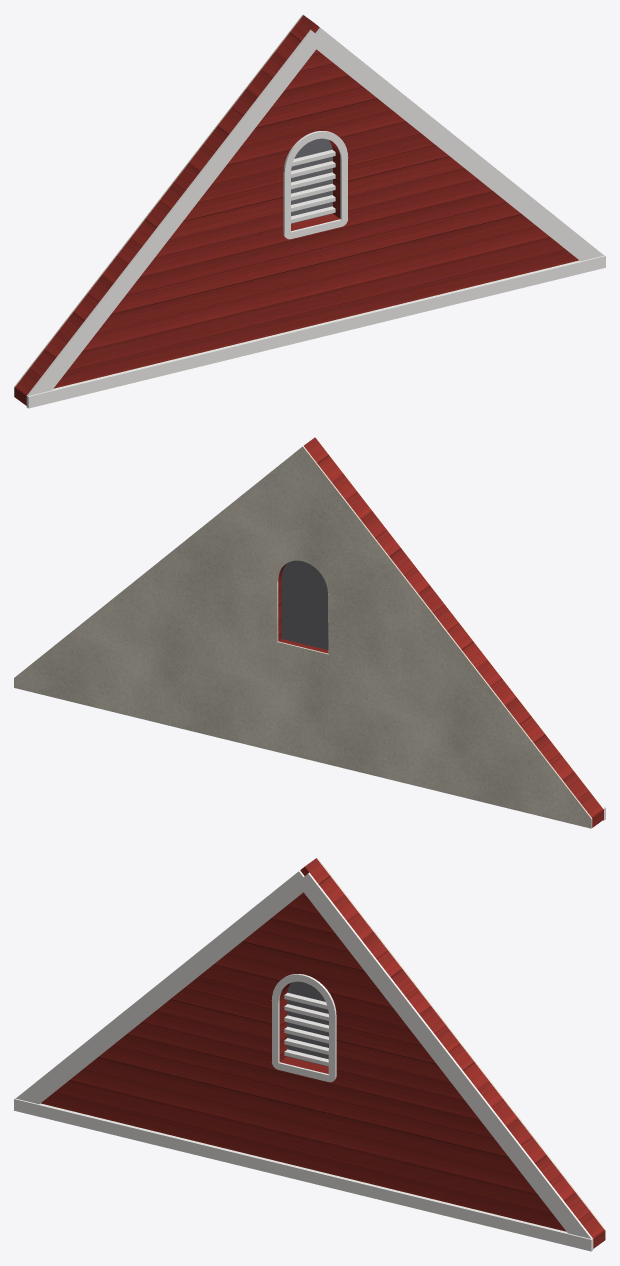
The model's file is gable_front.glb.
3 renders of one model, top to bottom at view 1: azimuth 30°, elevation 25°; view 2: azimuth 150°, elevation 25°; view 3: azimuth 330°, elevation 25°, orthographic.
Parts seen in each view (by area): view 1: gable_front_siding, gable_front_trim, gable_front_louvre, gable_front_dark, gable_front_plaster; view 2: gable_front_plaster, gable_front_siding, gable_front_dark, gable_front_trim; view 3: gable_front_siding, gable_front_trim, gable_front_louvre, gable_front_dark, gable_front_plaster.
Boxes of the visible parts, x1=… form: gable_front_siding: x1=15, y1=15, x2=579, y2=405; gable_front_trim: x1=26, y1=27, x2=605, y2=408; gable_front_louvre: x1=291, y1=149, x2=335, y2=223; gable_front_dark: x1=291, y1=138, x2=332, y2=223; gable_front_plaster: x1=14, y1=14, x2=302, y2=396; gable_front_plaster: x1=14, y1=446, x2=592, y2=828; gable_front_siding: x1=278, y1=437, x2=603, y2=827; gable_front_dark: x1=281, y1=560, x2=328, y2=649; gable_front_trim: x1=320, y1=442, x2=605, y2=820; gable_front_siding: x1=40, y1=858, x2=604, y2=1248; gable_front_trim: x1=14, y1=870, x2=593, y2=1251; gable_front_louvre: x1=284, y1=992, x2=328, y2=1066; gable_front_dark: x1=287, y1=981, x2=328, y2=1066; gable_front_plaster: x1=317, y1=857, x2=605, y2=1239.
Size of the model in its own units: 8 by 4.15 by 0.35.
5 materials, 2 textured.
